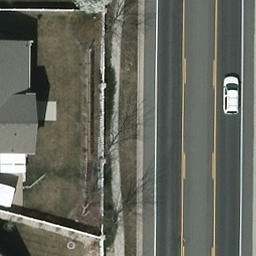camping car: (0, 172, 15, 208)
car: (222, 74, 241, 114)
